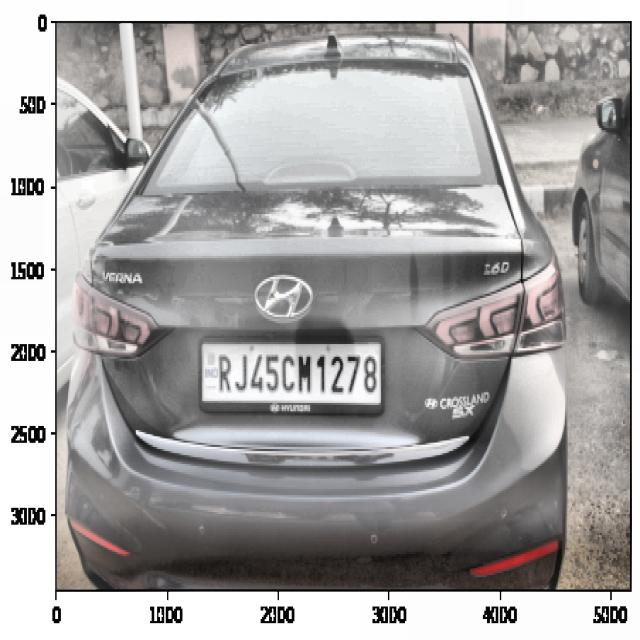license_plate: (212, 346, 382, 407)
